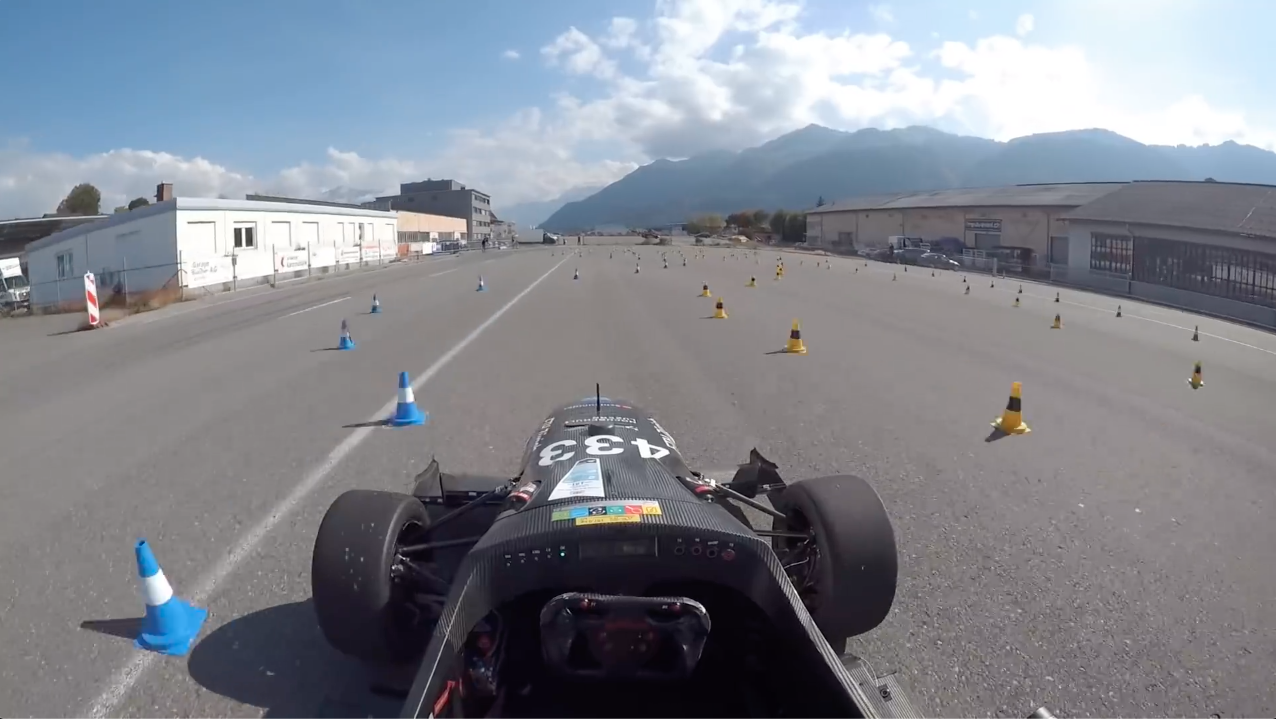lcone: (115, 526, 219, 661), (380, 368, 433, 432), (331, 314, 361, 352)
rcone: (988, 376, 1034, 439), (777, 315, 813, 358)
